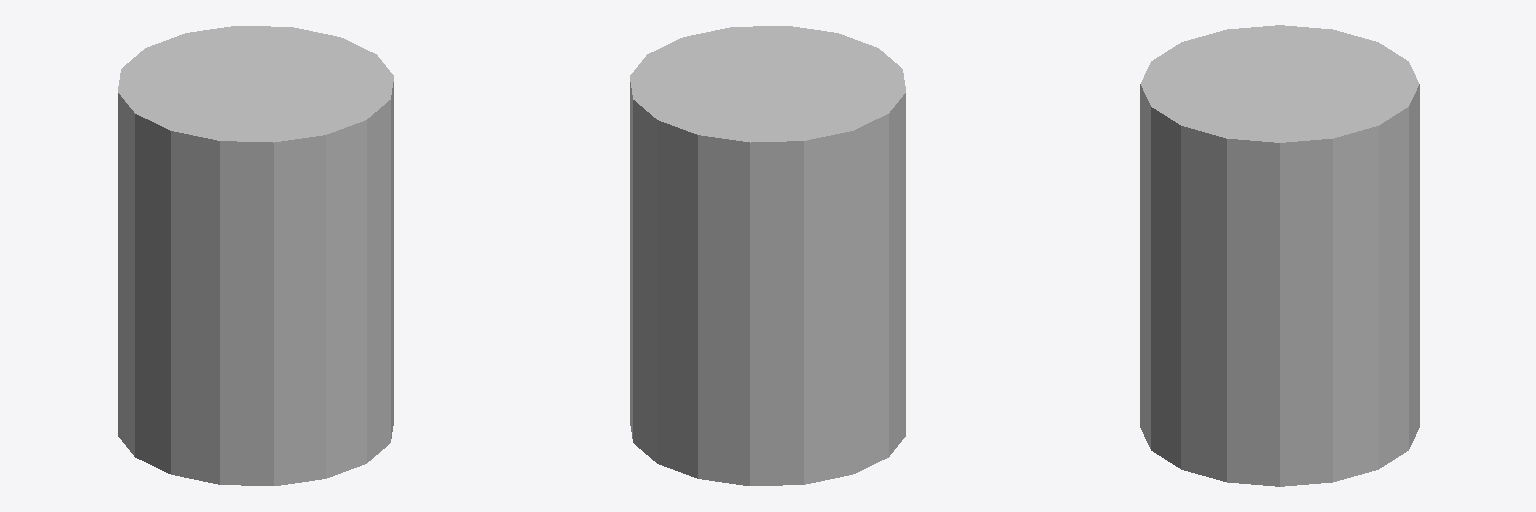
The model's file is barrel_container_collider.obj.
3 views of the same model, side by side, from view 1: azimuth 30°, elevation 25°; view 2: azimuth 150°, elevation 25°; view 3: azimuth 270°, elevation 25° (orthographic).
Visible parts, largest first — view 1: Cylinder; view 2: Cylinder; view 3: Cylinder.
Part boxes in pixels (x1,y1,x2,y2): Cylinder: (118,26,393,485); Cylinder: (630,26,905,485); Cylinder: (1140,25,1419,486).
Size of the model in its own units: 0.5117 by 0.6957 by 0.5117.